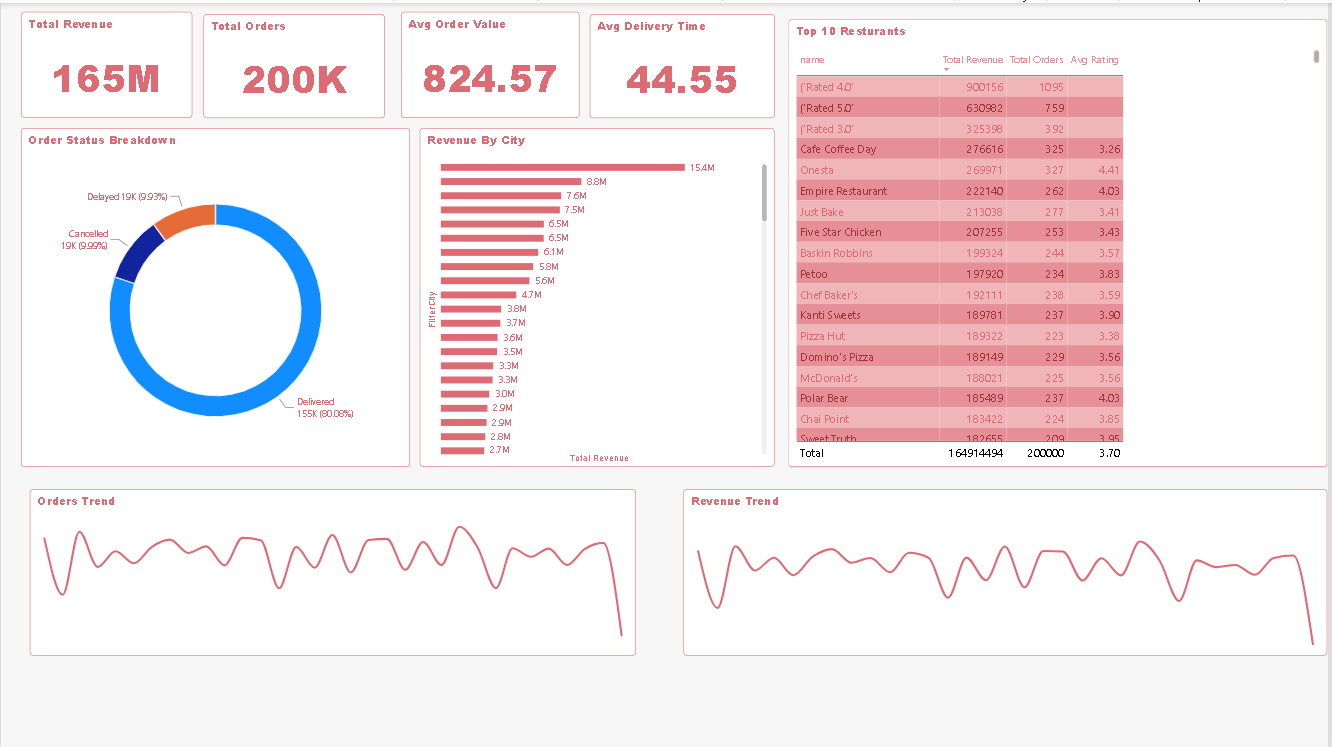

The page's visual inventory and layout, read from the dashboard file:
{"tool":"powerbi","page":{"name":"Executive Overview","canvas":[1920,1080],"ordinal":0},"visuals":[{"type":"cardVisual","title":"Total Revenue","fields":{"Data":["Orders.Total Revenue"]},"box":[29,12.7,247.9,153.8],"z":0},{"type":"cardVisual","title":"Total Orders","fields":{"Data":["Orders.Total Orders"]},"box":[293.2,16.3,262.4,150.2],"z":1000},{"type":"cardVisual","title":"Avg Order Value","fields":{"Data":["Orders.Avg Order Value"]},"box":[579.1,12.7,258.8,153.8],"z":2000},{"type":"cardVisual","title":"Avg Delivery Time","fields":{"Data":["Orders.Avg Delivery Time"]},"box":[852.4,16.3,267.8,150.2],"z":3000},{"type":"lineChart","title":"Revenue Trend","fields":{"Y":["Orders.Total Revenue"],"Category":["DateTable.Date.Variation.Date Hierarchy.Year","DateTable.Date.Variation.Date Hierarchy.Month"]},"box":[988.1,704,932,240.7],"z":4000},{"type":"lineChart","title":"Orders Trend","fields":{"Category":["DateTable.Date.Variation.Date Hierarchy.Year","DateTable.Date.Variation.Date Hierarchy.Month"],"Y":["Orders.Total Orders"]},"box":[41.6,704,877.7,240.7],"z":5000},{"type":"barChart","title":"Revenue By City","fields":{"Category":["Customers.FilterCity"],"Y":["Orders.Total Revenue"]},"box":[606.2,181,513.9,490.4],"z":6000},{"type":"donutChart","title":"Order Status Breakdown","fields":{"Y":["Orders.Total Orders"],"Category":["Orders.OrderStatus"]},"box":[29,181,562.8,490.4],"z":7000},{"type":"tableEx","title":"Top 10 Resturants","fields":{"Values":["Restaurants.name","Orders.Total Revenue","Orders.Total Orders","Orders.Avg Rating"]},"box":[1140.1,23.5,780,647.9],"z":8000}]}

Visuals, with their boxes in screenshot pixels (x1, y1, x2, y2), scaled from the page's 1920x1080 canvas onto the 1332x747 screenshot:
"Total Revenue" cardVisual: region(20, 9, 192, 115)
"Total Orders" cardVisual: region(203, 11, 385, 115)
"Avg Order Value" cardVisual: region(402, 9, 581, 115)
"Avg Delivery Time" cardVisual: region(591, 11, 777, 115)
"Revenue Trend" lineChart: region(685, 487, 1331, 653)
"Orders Trend" lineChart: region(29, 487, 638, 653)
"Revenue By City" barChart: region(421, 125, 777, 464)
"Order Status Breakdown" donutChart: region(20, 125, 411, 464)
"Top 10 Resturants" tableEx: region(791, 16, 1331, 464)
